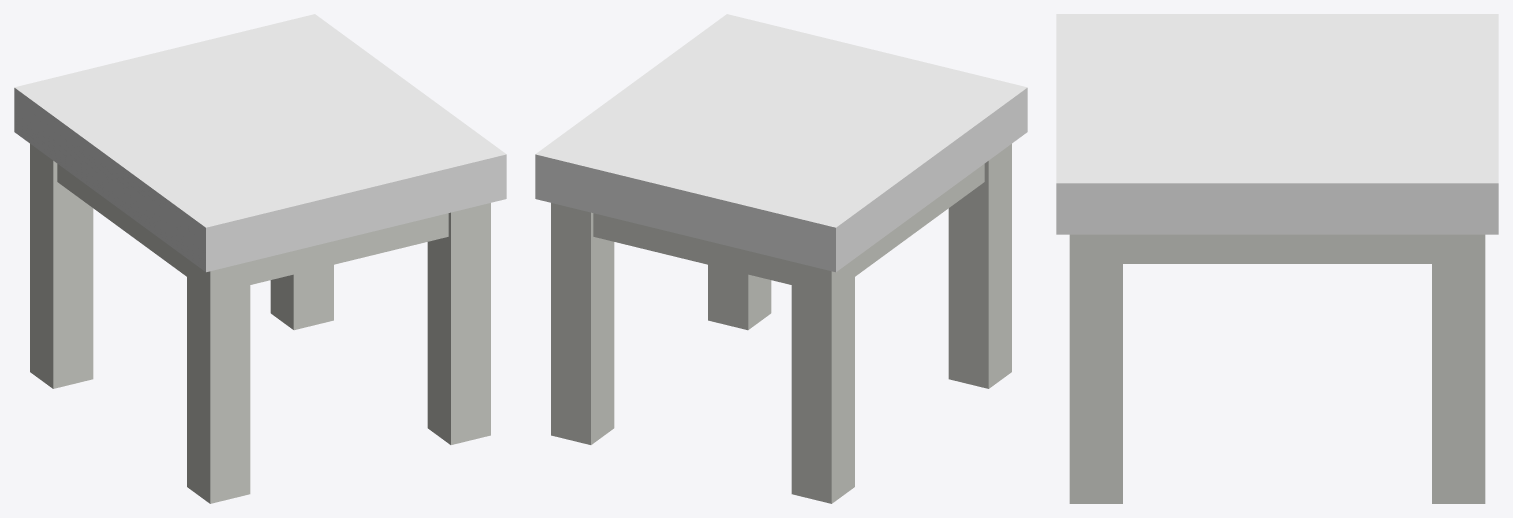
The model's file is Stool_3A.fbx.
The picture shows the model from 3 angles, left to right: view 1: azimuth 30°, elevation 25°; view 2: azimuth 150°, elevation 25°; view 3: azimuth 270°, elevation 25°; orthographic projection. The views are drawn at different scales.
Visible parts, largest first — view 1: polySurface2092; view 2: polySurface2092; view 3: polySurface2092.
Boxes of the visible parts, x1,y1,x2,y2 form: polySurface2092: [14, 14, 506, 503]; polySurface2092: [535, 14, 1027, 503]; polySurface2092: [1056, 14, 1498, 503].
Size of the model in its own units: 0.6 by 0.5392 by 0.6625.
1 material, 1 textured.
